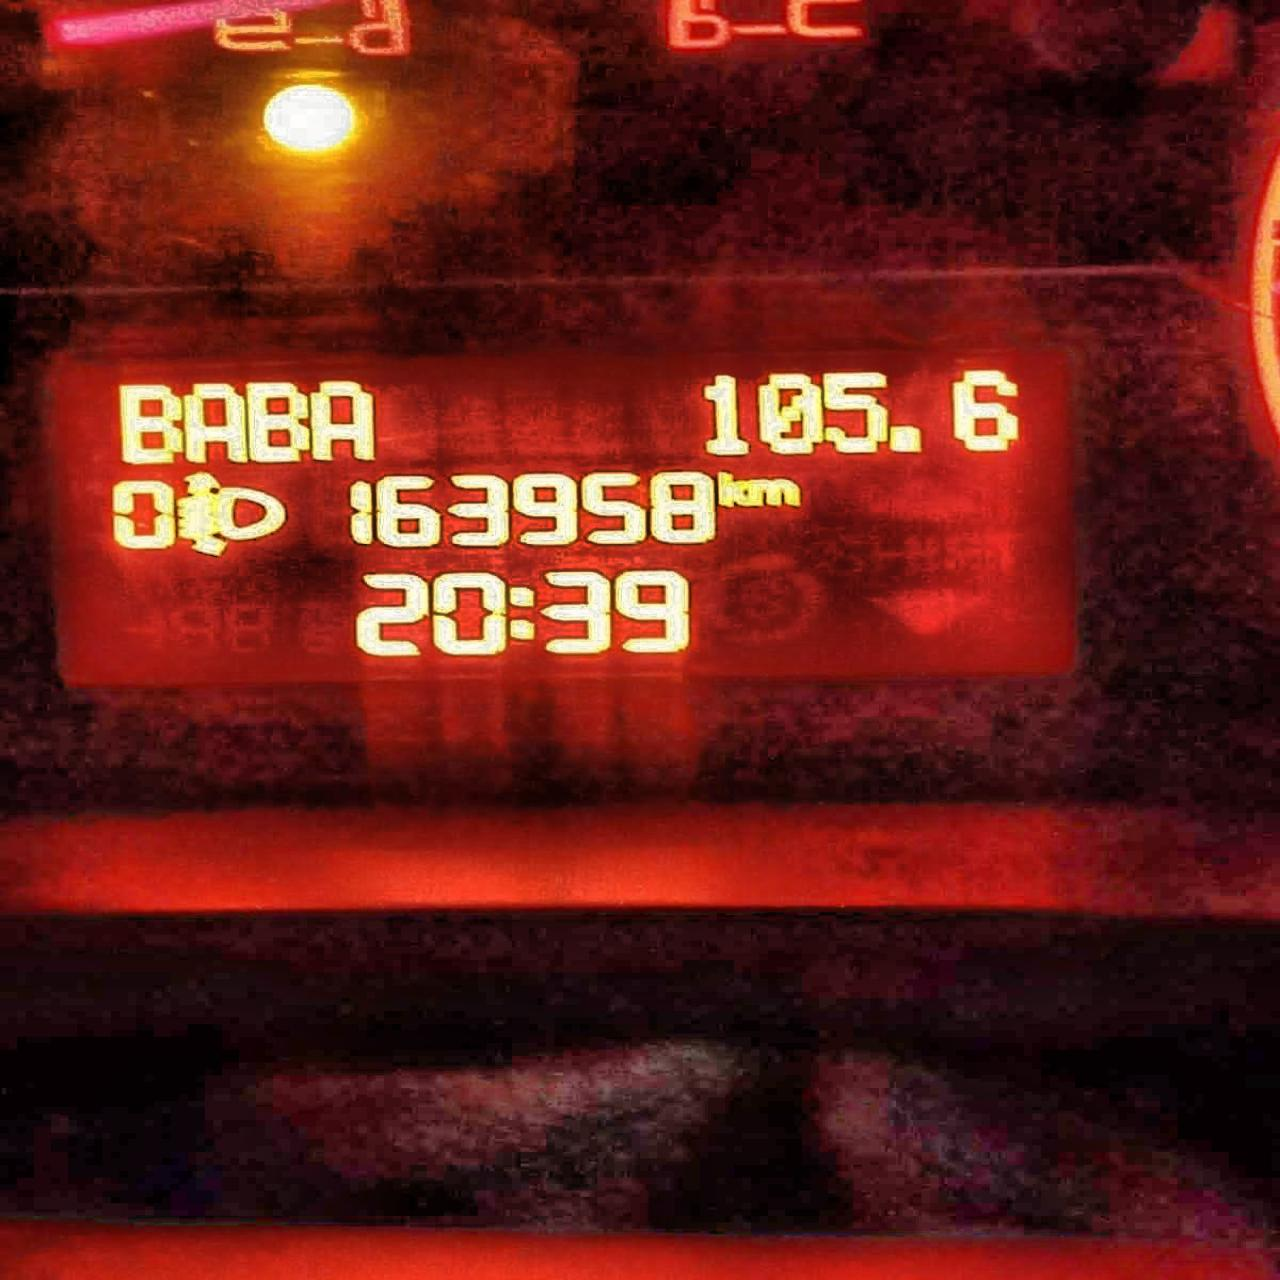-: (887, 422, 922, 456)
0: (430, 571, 509, 656), (754, 373, 824, 454), (109, 479, 178, 550)
1: (701, 372, 749, 457), (347, 478, 374, 545)
2: (353, 572, 431, 658)
3: (539, 570, 612, 652), (445, 474, 508, 545)
5: (824, 369, 888, 454), (579, 474, 648, 545)
6: (949, 367, 1020, 452), (373, 474, 441, 549)
8: (647, 470, 717, 543)
9: (611, 567, 692, 654), (509, 472, 580, 545)
X: (308, 377, 377, 463), (183, 381, 248, 465), (118, 381, 183, 467), (246, 379, 309, 463), (747, 476, 804, 508), (505, 584, 535, 642), (714, 469, 748, 509)
odometer: (41, 343, 1076, 692)
